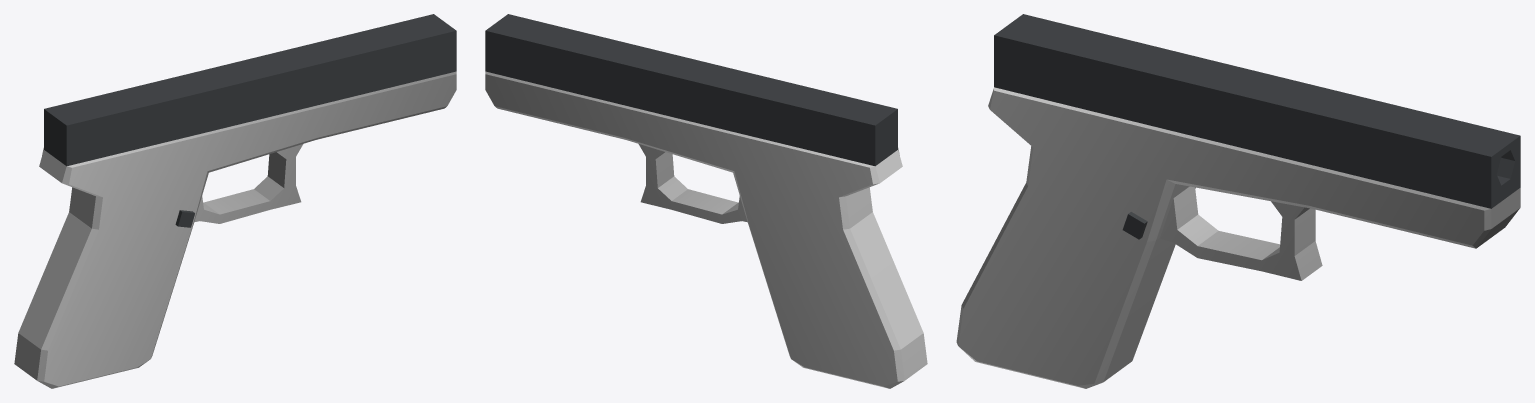
Rendered from Pistol4_06.fbx.
3 renders of one model, left to right at view 1: azimuth 30°, elevation 25°; view 2: azimuth 150°, elevation 25°; view 3: azimuth 330°, elevation 25°, orthographic. The views are drawn at different scales.
Visible parts, largest first — view 1: Pistol4_06; view 2: Pistol4_06; view 3: Pistol4_06.
Part boxes in pixels (<box>): Pistol4_06: <box>14,14,456,388</box>; Pistol4_06: <box>485,14,927,388</box>; Pistol4_06: <box>956,14,1520,388</box>.
Size of the model in its own units: 0.2392 by 0.1415 by 0.0305.
